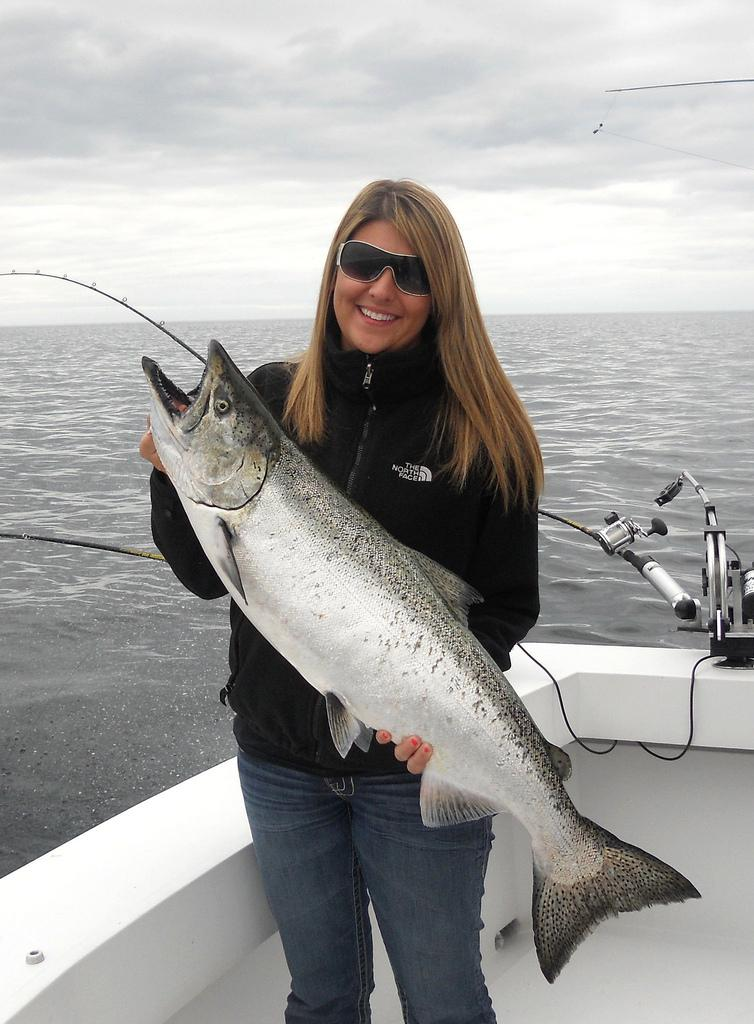Person: (139, 176, 544, 1023)
